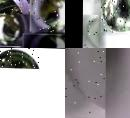ironball: (65, 48, 105, 117), (29, 0, 65, 31), (100, 0, 129, 31), (0, 48, 41, 67), (22, 32, 65, 48), (82, 12, 98, 48), (0, 0, 38, 13)
